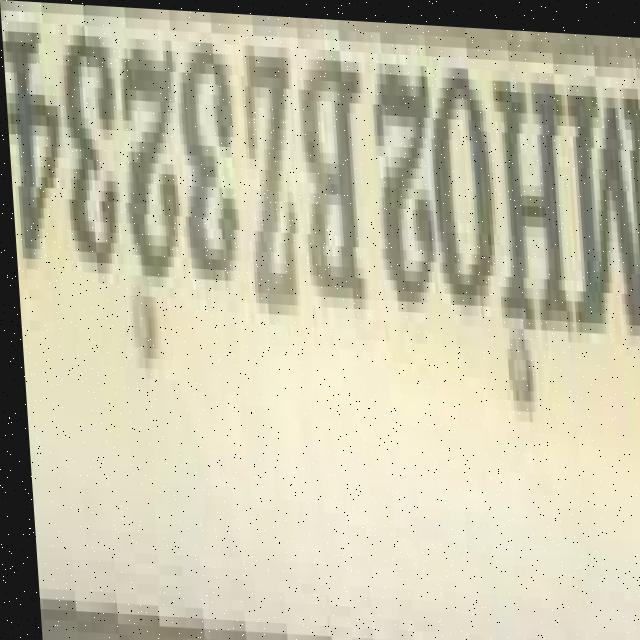plate: (0, 0, 640, 423)
